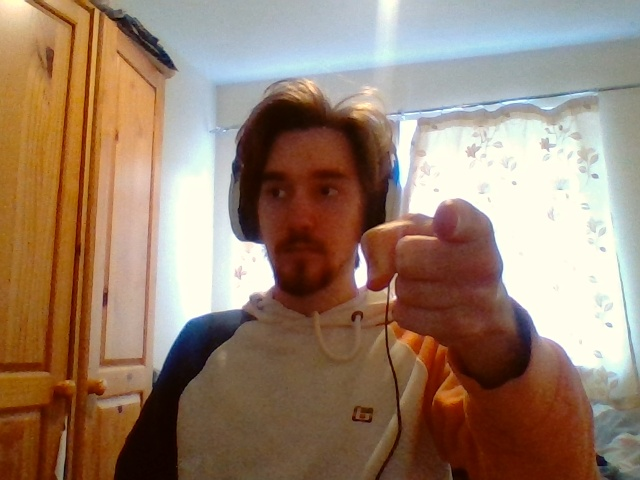you: (361, 199, 504, 335)
